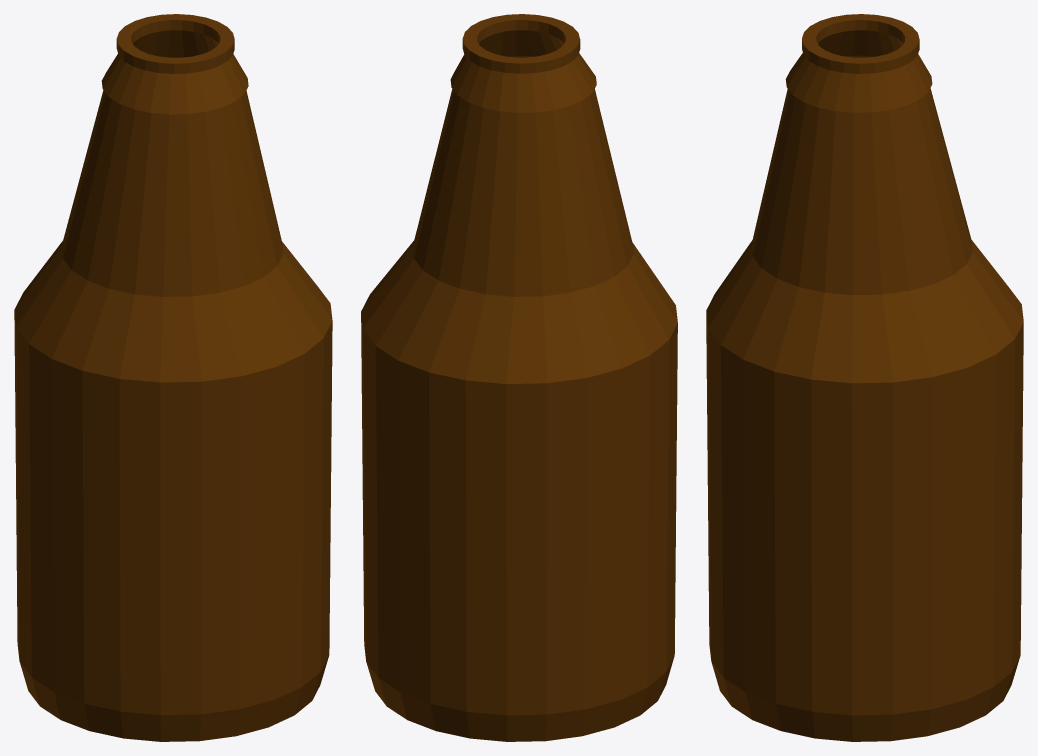
3 renders of one model, left to right at view 1: azimuth 30°, elevation 25°; view 2: azimuth 150°, elevation 25°; view 3: azimuth 270°, elevation 25°, orthographic.
Visible parts, largest first — view 1: mesh1_mesh1-geometry; view 2: mesh1_mesh1-geometry; view 3: mesh1_mesh1-geometry.
Boxes of the visible parts, x1,y1,x2,y2 form: mesh1_mesh1-geometry: (14,14,332,741); mesh1_mesh1-geometry: (361,14,677,741); mesh1_mesh1-geometry: (706,14,1023,741).
Bounding box in the file's own units: 0.379 × 0.8442 × 0.379.
